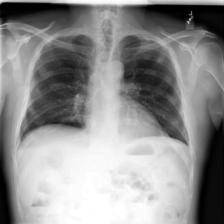normal: (11, 28, 191, 148)
